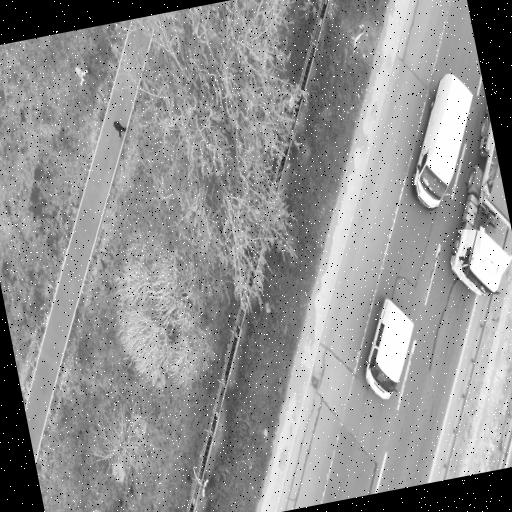car: (413, 74, 473, 210), (365, 298, 414, 399)
person: (113, 120, 125, 137)
truck: (450, 104, 510, 294)
